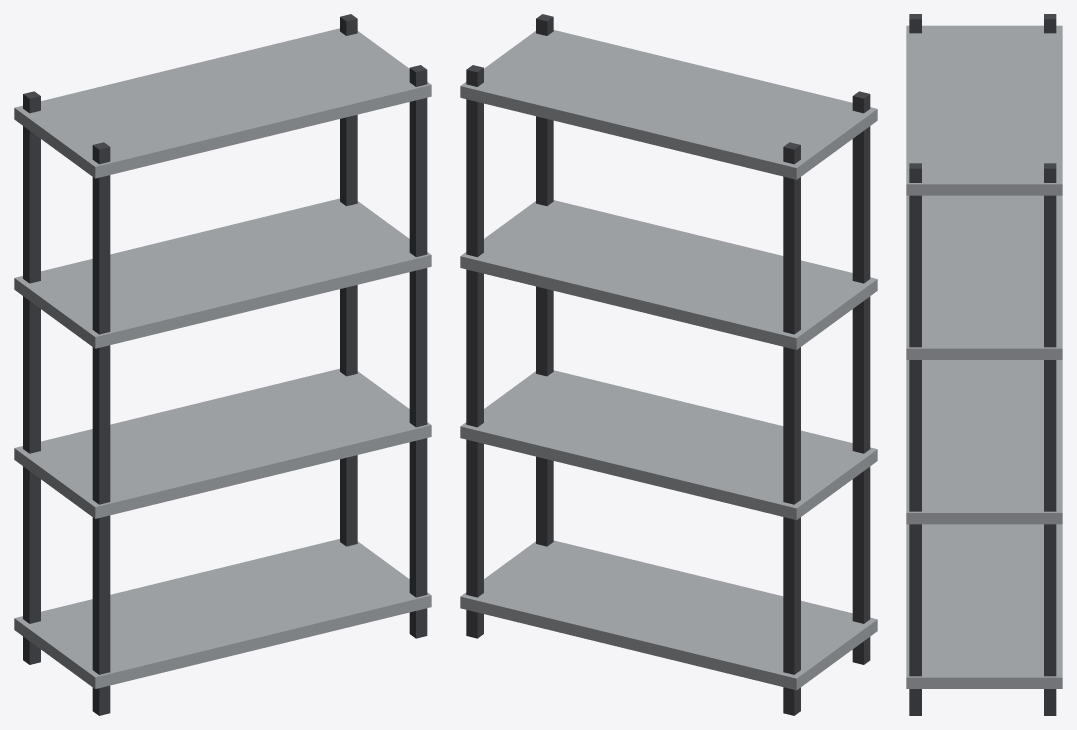
The model's file is SM_Prop_Shelf_01.glb.
3 renders of one model, left to right at view 1: azimuth 30°, elevation 25°; view 2: azimuth 150°, elevation 25°; view 3: azimuth 270°, elevation 25°, orthographic. The views are drawn at different scales.
Visible parts, largest first — view 1: SM_Prop_Shelf_01; view 2: SM_Prop_Shelf_01; view 3: SM_Prop_Shelf_01.
Boxes of the visible parts, x1,y1,x2,y2 form: SM_Prop_Shelf_01: (14,14,431,715); SM_Prop_Shelf_01: (460,14,877,715); SM_Prop_Shelf_01: (906,14,1062,715).
Size of the model in its own units: 1.2 by 1.93 by 0.5.
Materials: 1 (1 with a texture image).
